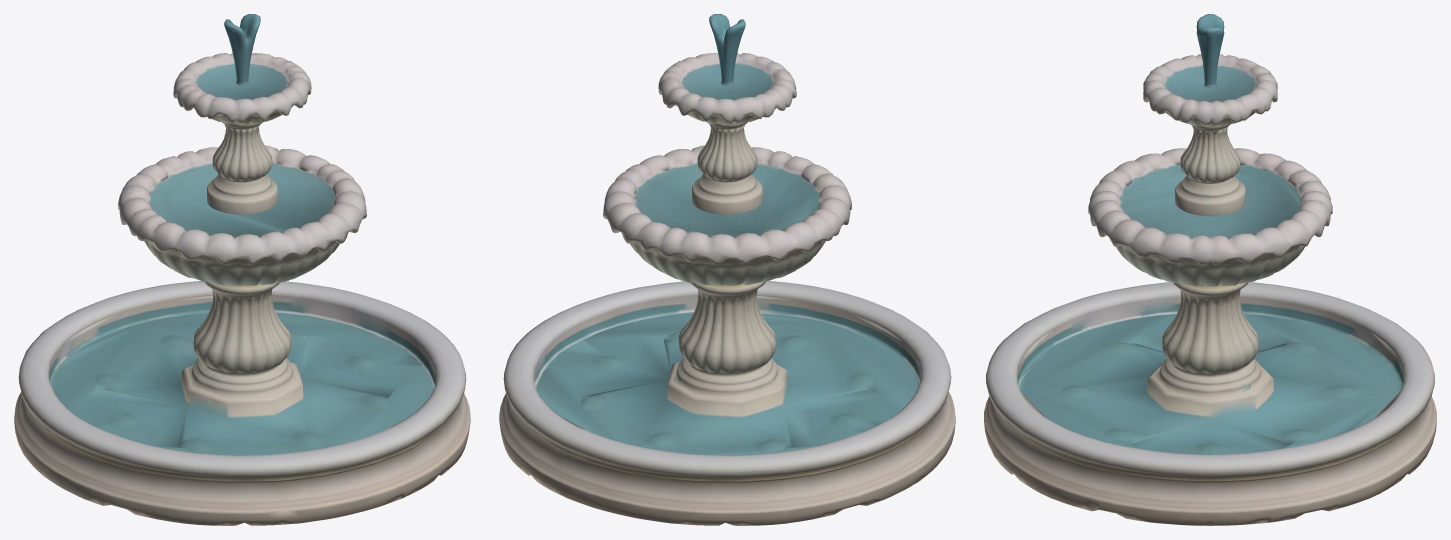
Rendered from a_garden_fountain_43446d43_v3.glb.
3 renders of one model, left to right at view 1: azimuth 30°, elevation 25°; view 2: azimuth 150°, elevation 25°; view 3: azimuth 270°, elevation 25°, orthographic.
Parts seen in each view (by area): view 1: material; view 2: material; view 3: material.
Part boxes in pixels (x1,y1,x2,y2): material: (14,14,470,525); material: (499,14,955,525); material: (984,14,1436,525).
Size of the model in its own units: 1.9 by 1.9 by 1.9.
Materials: 1 (1 with a texture image).
